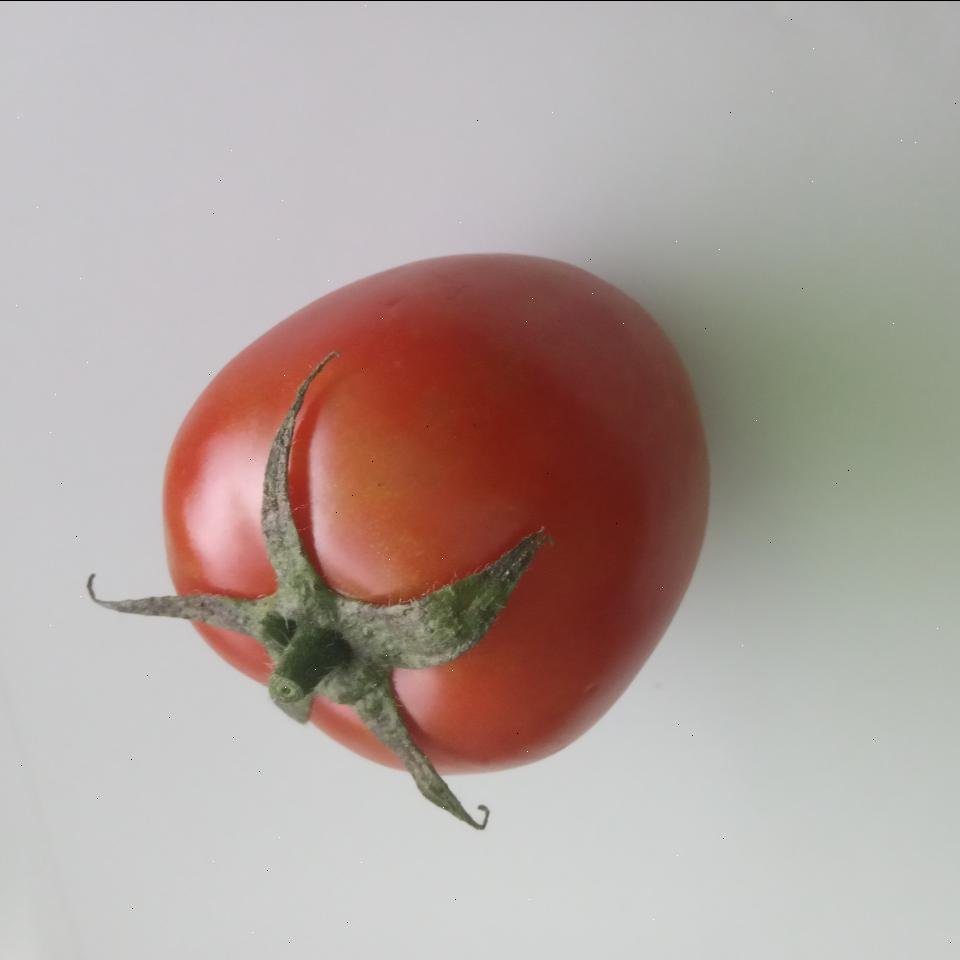Healthy: (82, 248, 718, 828)
